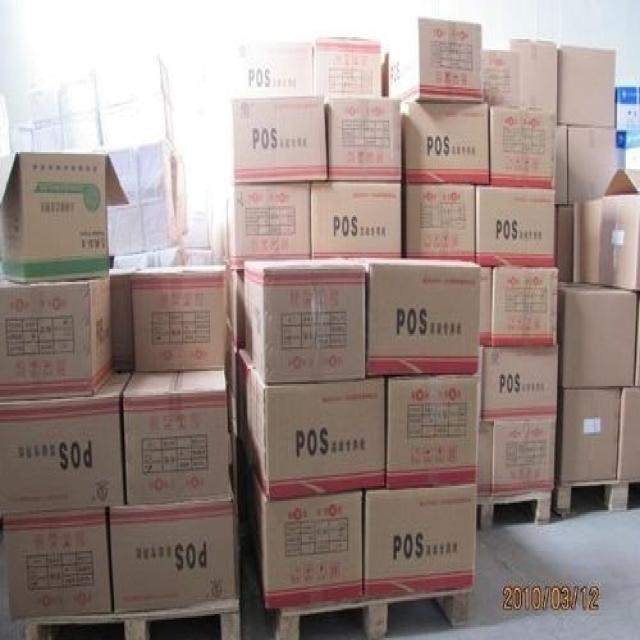box: (236, 349, 384, 501), (0, 371, 132, 516), (109, 471, 237, 612), (0, 152, 131, 284), (250, 473, 364, 608), (243, 256, 365, 382), (353, 258, 480, 378), (122, 369, 228, 506), (0, 276, 115, 399), (362, 482, 477, 599), (1, 508, 113, 621), (384, 375, 479, 488), (131, 263, 228, 373), (105, 141, 189, 260), (225, 96, 328, 184), (380, 19, 483, 105), (557, 280, 637, 390), (572, 167, 640, 291), (215, 182, 311, 265), (401, 104, 490, 184), (311, 182, 402, 258), (475, 186, 556, 267), (554, 388, 620, 486), (325, 98, 402, 180), (481, 345, 559, 423), (403, 184, 476, 260), (493, 267, 561, 347), (489, 108, 556, 187), (492, 419, 557, 497), (314, 35, 383, 108), (557, 45, 616, 128), (97, 95, 175, 150), (95, 58, 175, 109), (241, 41, 315, 96), (511, 37, 558, 119), (568, 126, 616, 206), (109, 267, 137, 373), (481, 48, 522, 111), (618, 388, 640, 482), (111, 241, 189, 267), (60, 72, 99, 119), (63, 111, 102, 150), (556, 206, 575, 282), (227, 269, 244, 349), (477, 423, 494, 497), (614, 82, 640, 130), (227, 319, 237, 440), (29, 87, 61, 124), (479, 265, 493, 345), (32, 119, 65, 152), (616, 128, 640, 169), (556, 126, 568, 206), (6, 96, 32, 126), (9, 126, 35, 152), (477, 347, 485, 421), (634, 299, 640, 386)
